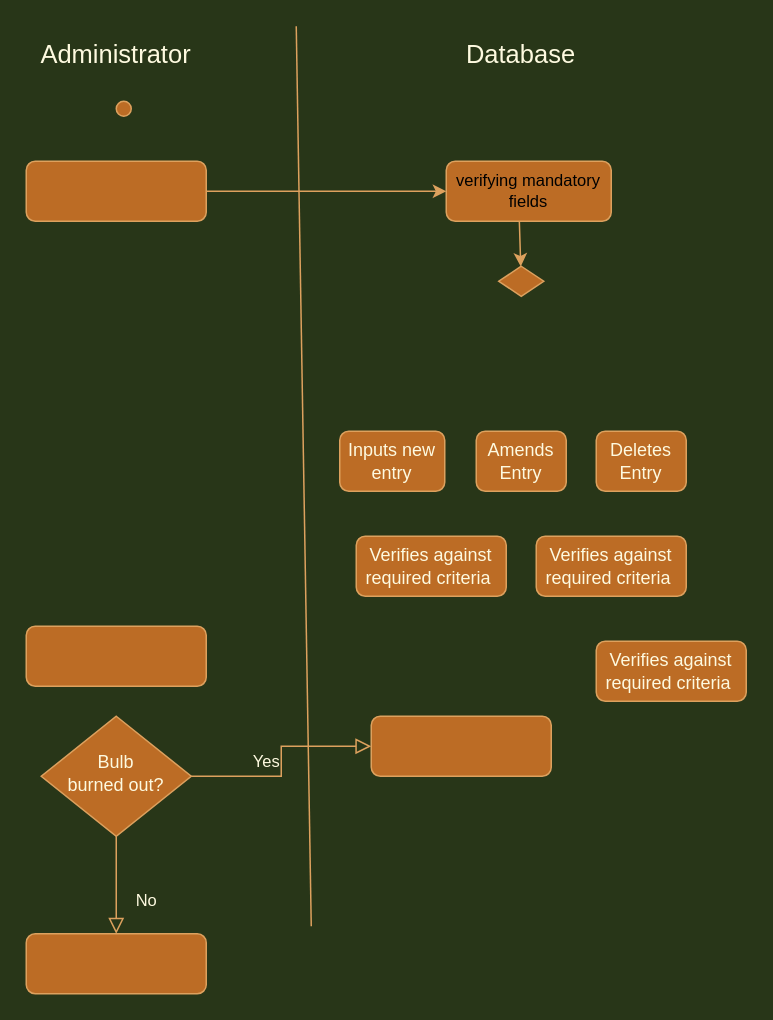
Some shapes in this 773 by 1020 pixel diagram are drawn without their labels. Each missing label, with the centre of its shape:
Plug in lamp: the point at 115,655
Repair Lamp: the point at 115,963
Replace Bulb: the point at 460,745
User registers details: the point at 115,190
